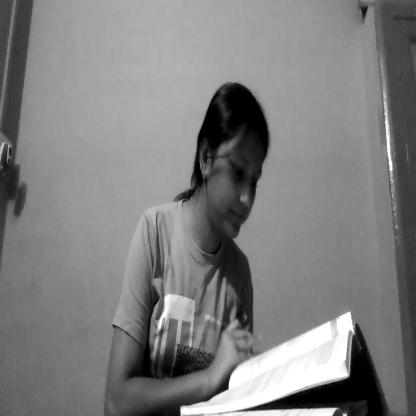Distracted: (193, 80, 277, 258)
